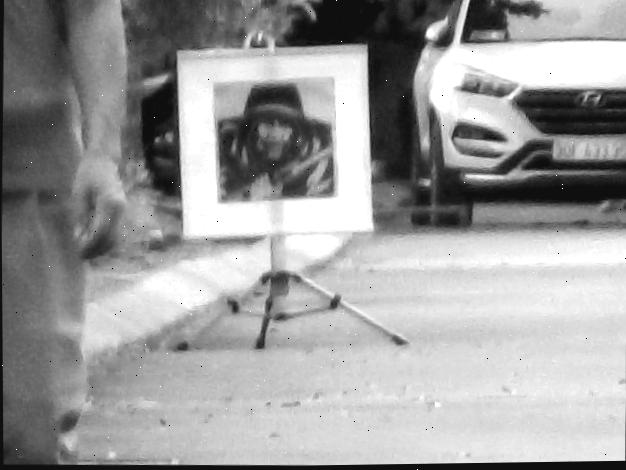bia: (212, 75, 340, 203)
chan: (174, 232, 408, 350)
